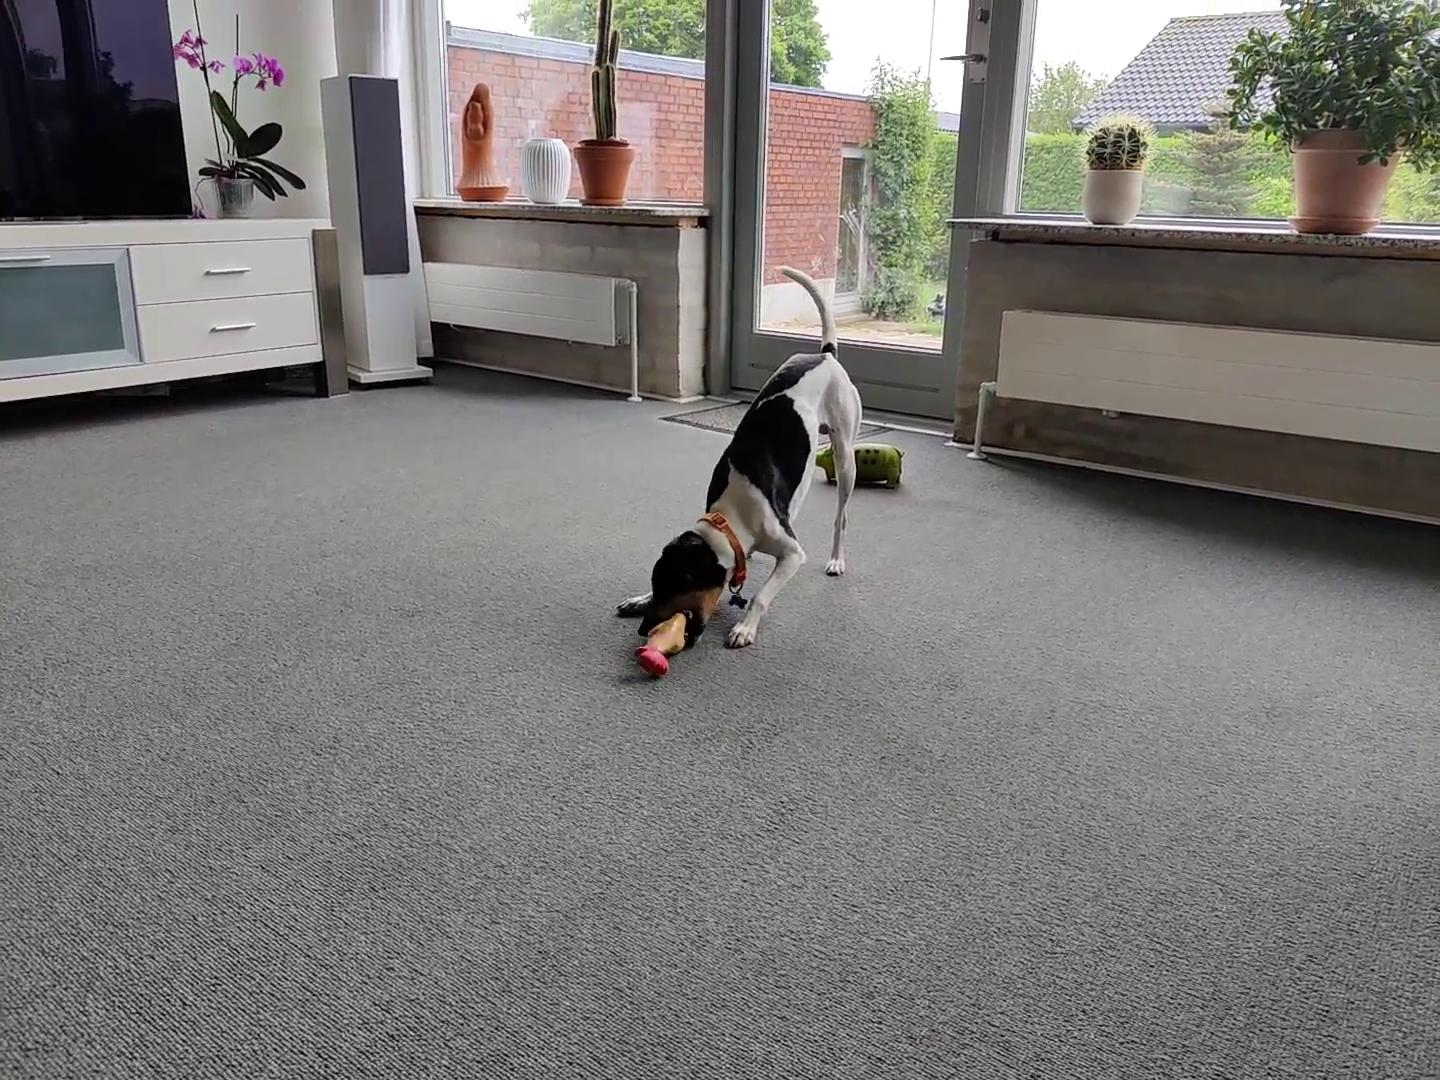Dog: (611, 261, 865, 649)
